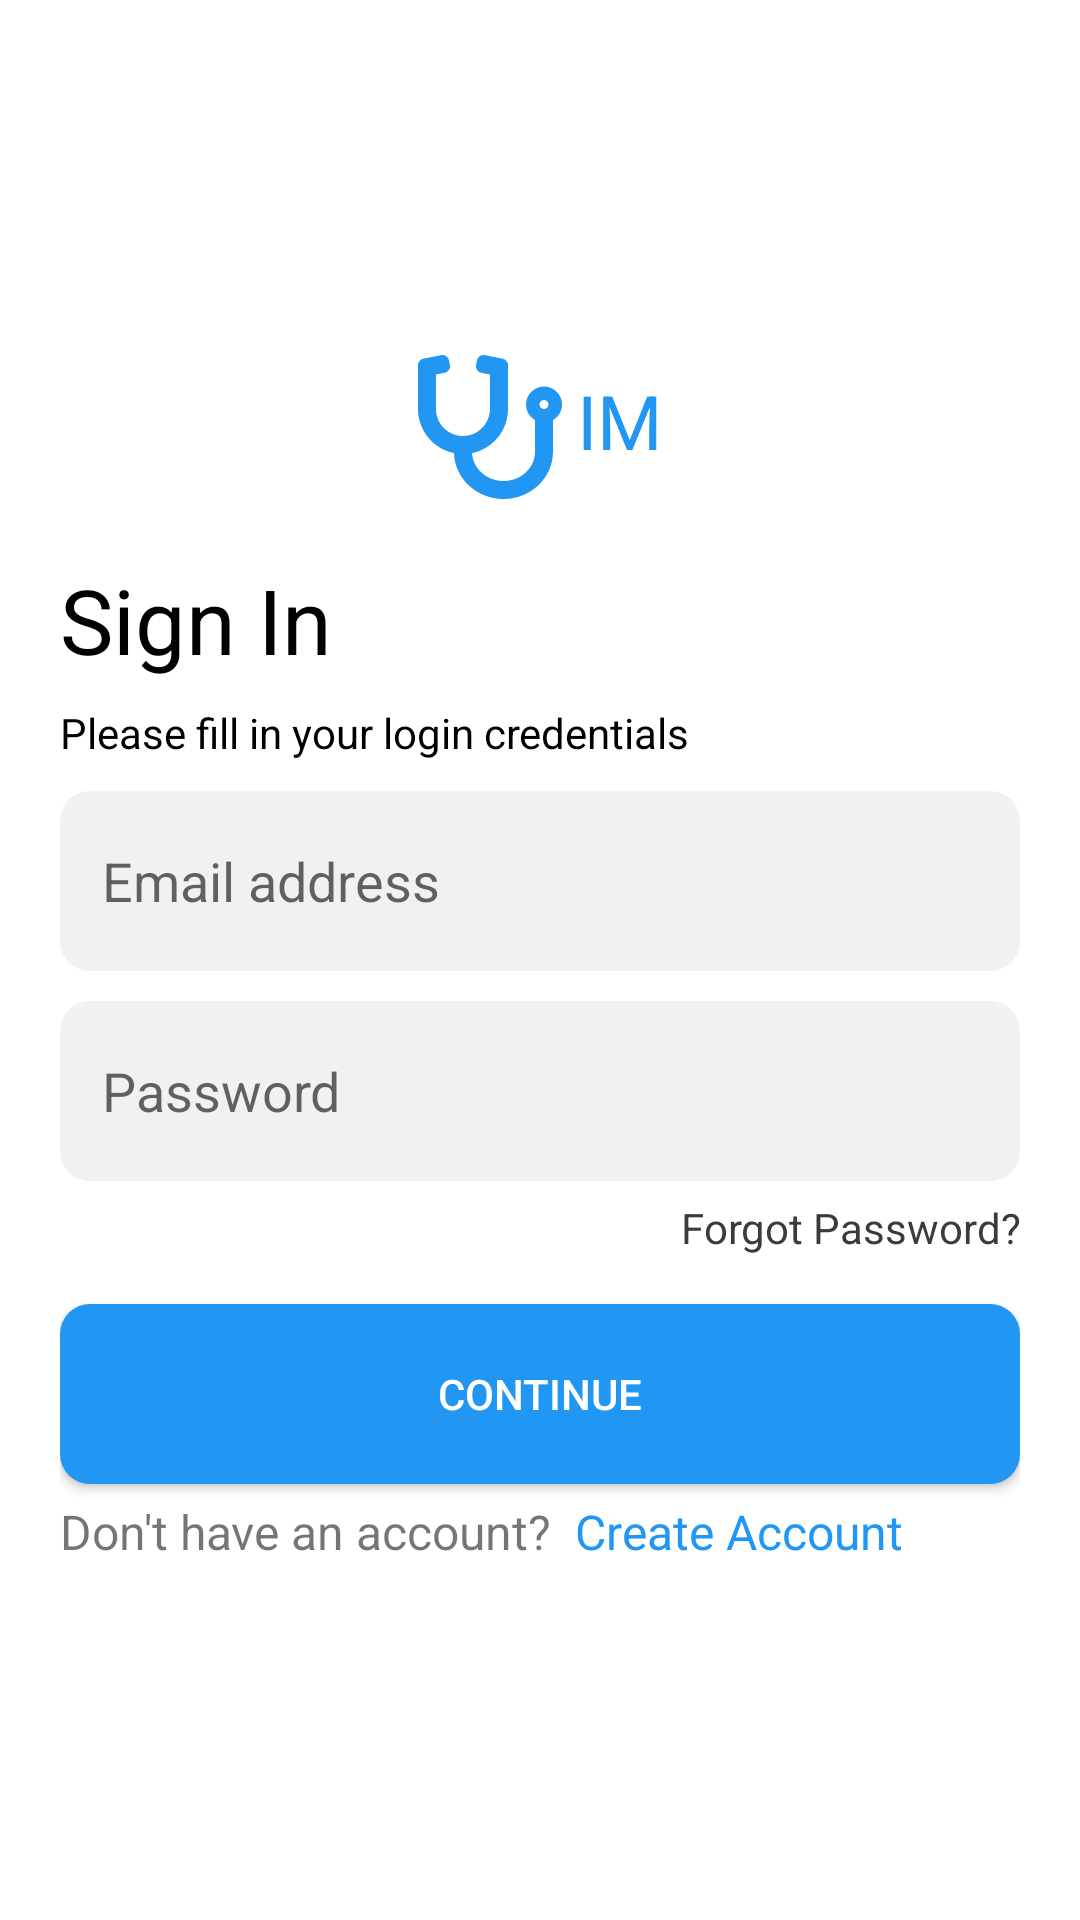

Icons on this 1080 x 1920 Android screen, each with its box as region(x1, y1, x2, y2):
stethoscope: region(418, 355, 562, 499)
